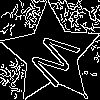W: (26, 29, 89, 94)
